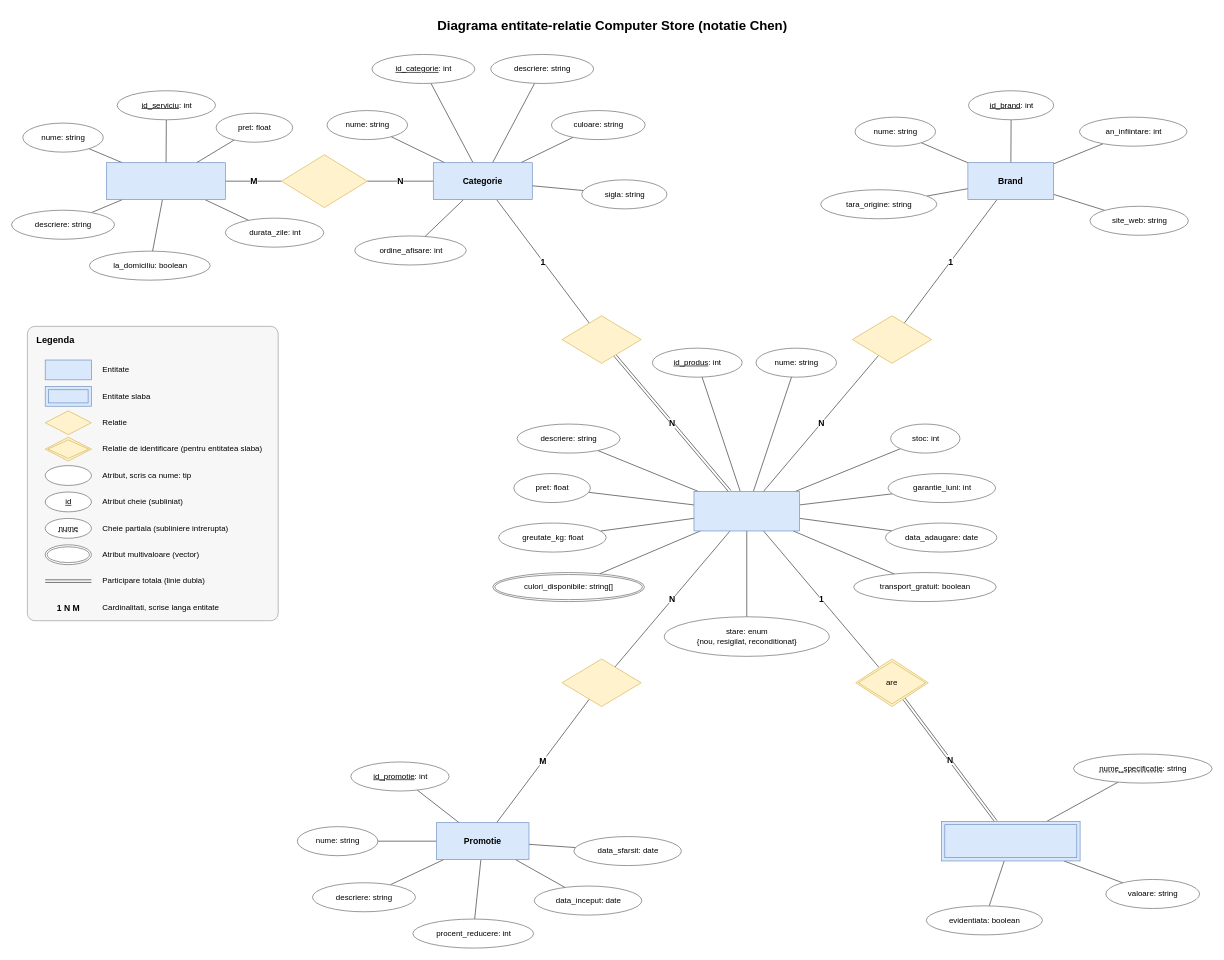
Image size: 1224x960. Some labels were removed from this diagram. The shapes that lost their labels are listed below. From the top down, each one's centre as x and y in pixels, then its label:
(165,181): ServiciuAditional
(324,181): se aplica la
(601,339): contine
(892,339): produce
(746,511): Produs
(601,682): include
(1010,841): SpecificatieTehnica
